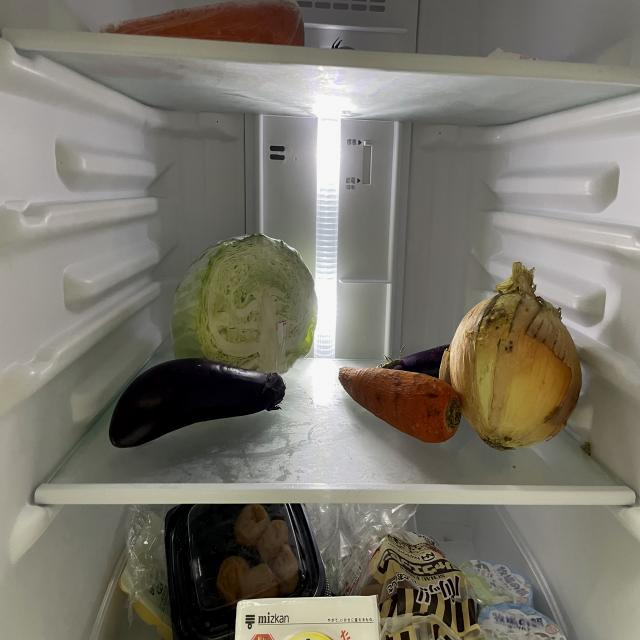cabbage: (172, 235, 320, 375)
carrot: (104, 2, 307, 56), (337, 366, 463, 450)
eggplant: (110, 359, 287, 453), (382, 345, 460, 383)
onion: (448, 268, 588, 447)
